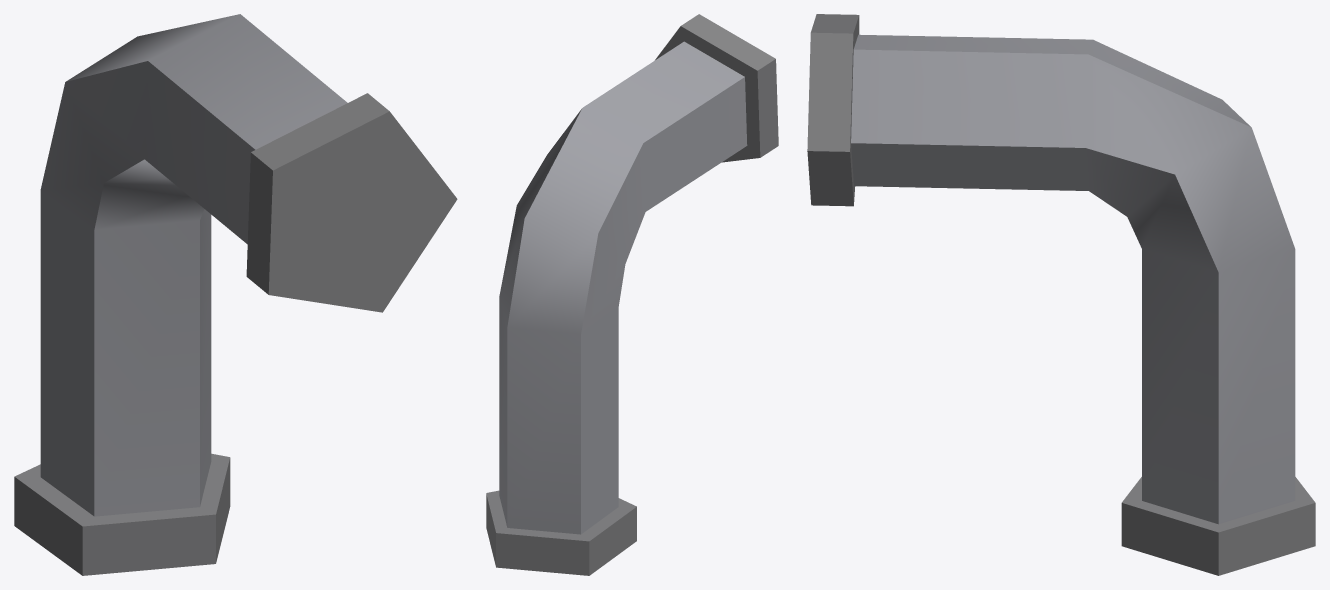
Rendered from TuberiaChica_Doblada.fbx.
3 views of the same model, side by side, from view 1: azimuth 30°, elevation 25°; view 2: azimuth 150°, elevation 25°; view 3: azimuth 270°, elevation 25° (orthographic). The views are drawn at different scales.
Parts seen in each view (by area): view 1: TuberiaDoblada; view 2: TuberiaDoblada; view 3: TuberiaDoblada.
Part boxes in pixels (box(x1,y1,x2,y2)): TuberiaDoblada: box(14, 14, 457, 575); TuberiaDoblada: box(486, 14, 778, 575); TuberiaDoblada: box(807, 14, 1315, 575).
Bounding box in the file's own units: 0.3869 × 1.13 × 1.02.
